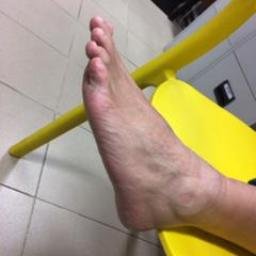Lateral View -Left Foot-: (70, 4, 214, 243)
